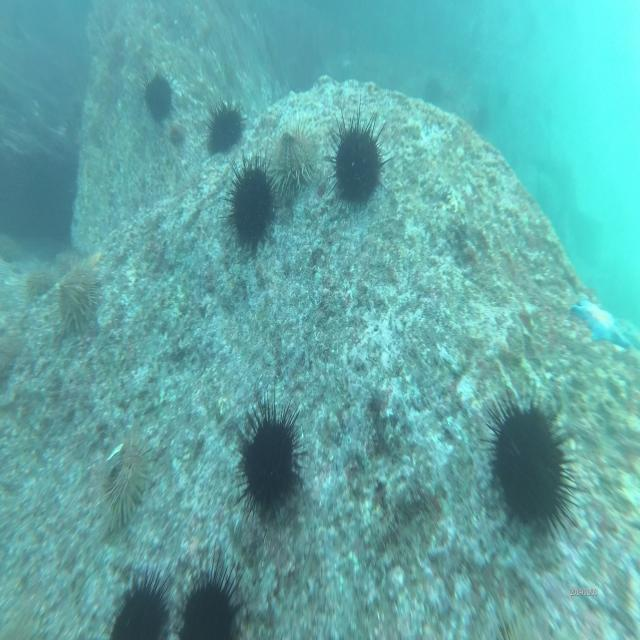echinus: (484, 376, 580, 553), (232, 386, 306, 526), (322, 102, 394, 214), (225, 143, 278, 255), (176, 557, 246, 640), (100, 559, 170, 640), (100, 432, 152, 532), (263, 124, 319, 196), (58, 262, 104, 335), (202, 98, 245, 158), (139, 74, 179, 124), (24, 266, 52, 303)
starfish: (569, 294, 631, 352)
